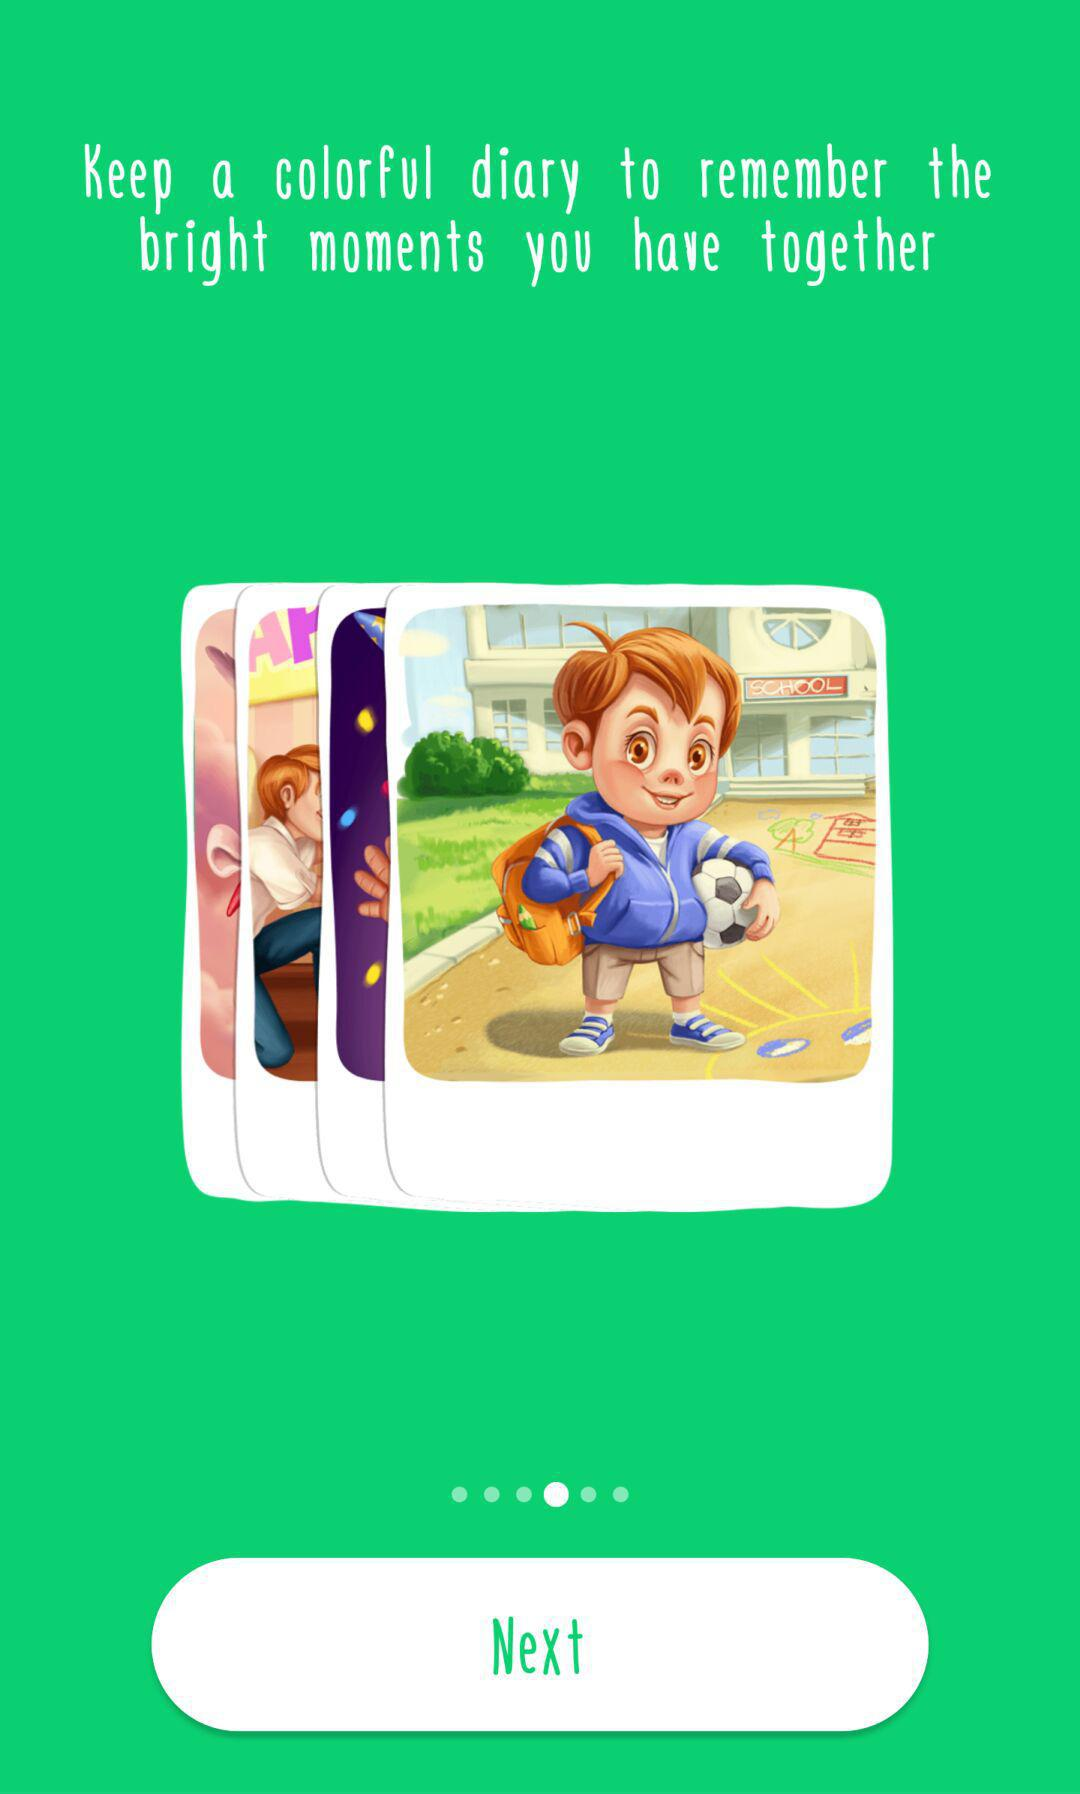Image: (178, 580, 896, 1215)
PageIndicator: (446, 1479, 632, 1510)
Text: (83, 141, 994, 290)
TextButton: (149, 1556, 931, 1732)
